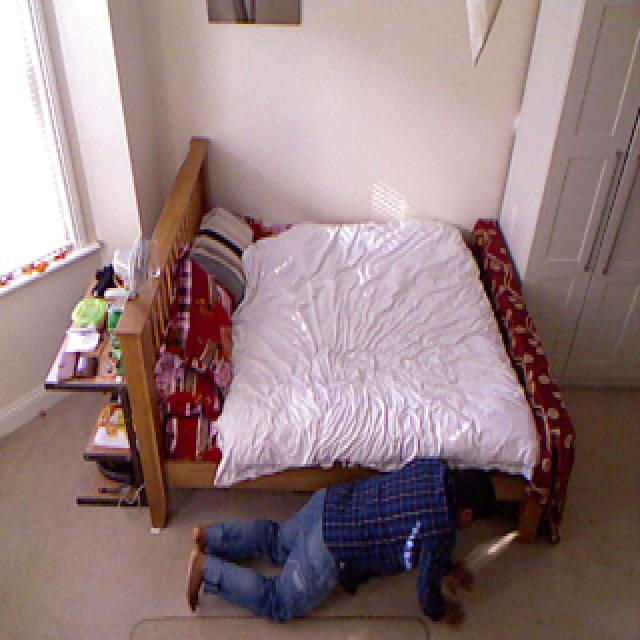crawling: (179, 460, 498, 620)
